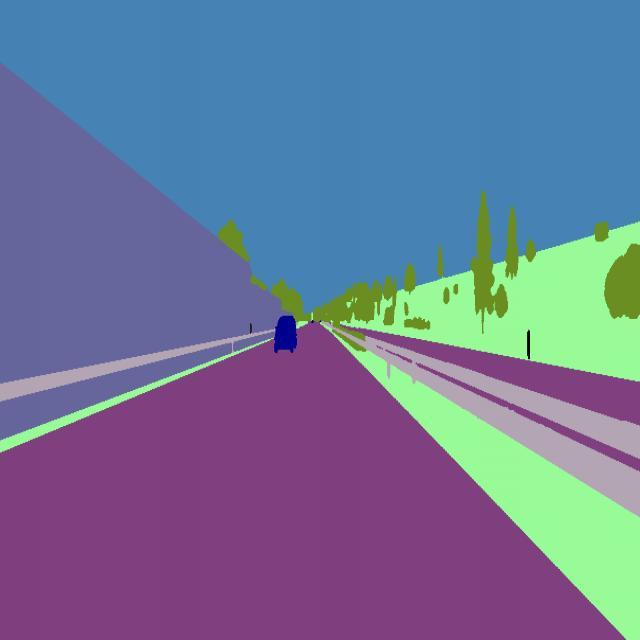safe: (269, 310, 300, 355)
